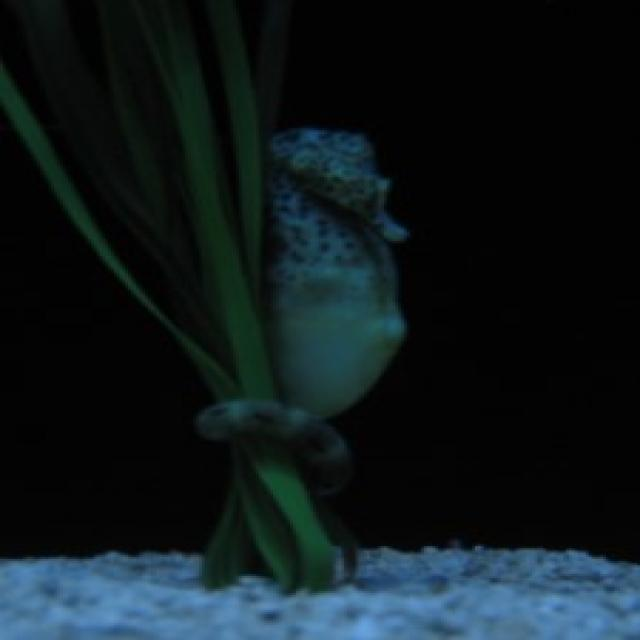Seahorse: (269, 120, 422, 404)
